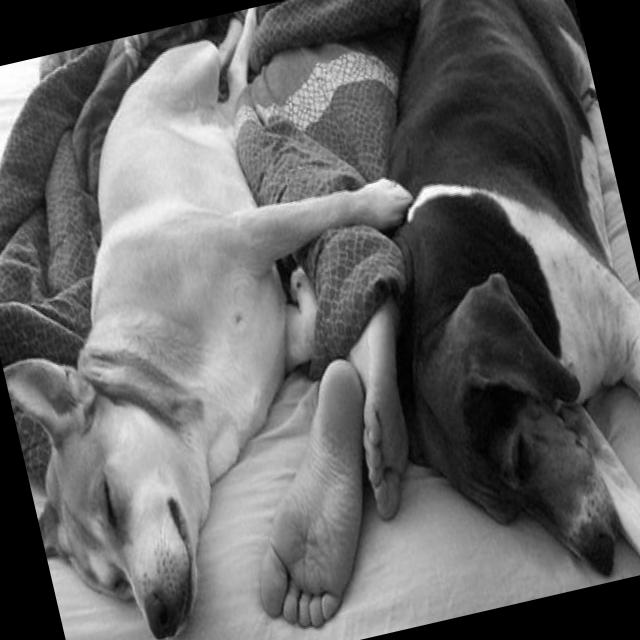laying down: (0, 0, 495, 640), (304, 0, 640, 619)
